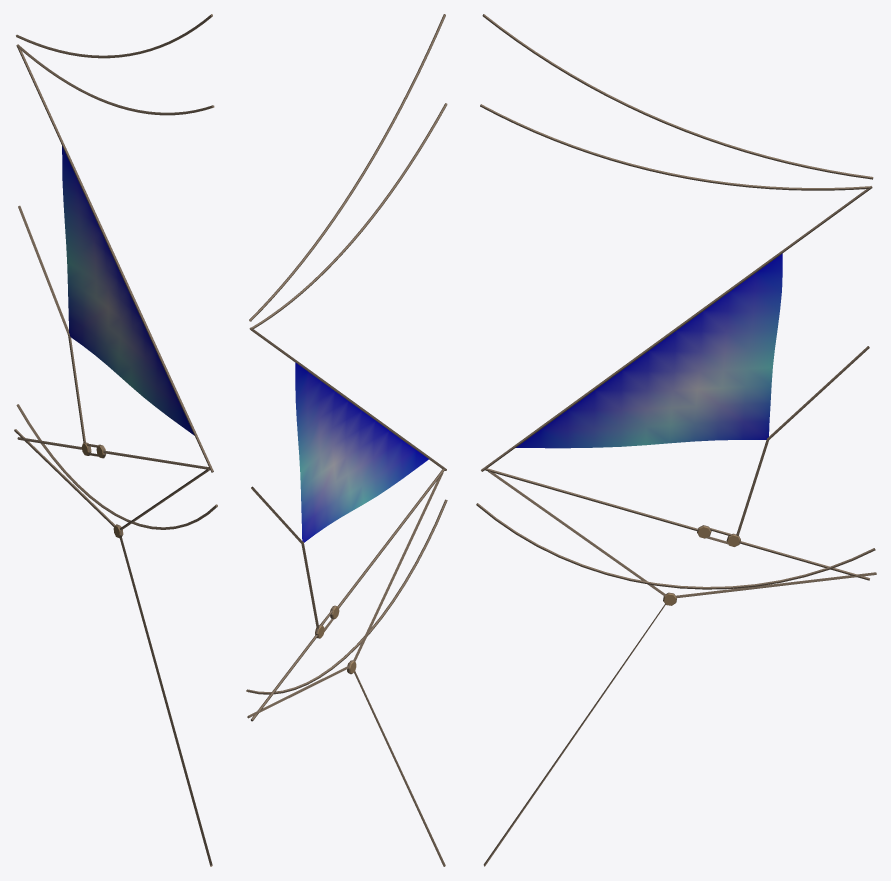
File: SM_Veh_Ship_L_01_Rigging_Middle_02.fbx
The picture shows the model from 3 angles, left to right: view 1: azimuth 30°, elevation 25°; view 2: azimuth 150°, elevation 25°; view 3: azimuth 270°, elevation 25°; orthographic projection.
Parts seen in each view (by area): view 1: SM_Veh_Ship_L_01_Rigging_Middle_02; view 2: SM_Veh_Ship_L_01_Rigging_Middle_02; view 3: SM_Veh_Ship_L_01_Rigging_Middle_02.
Boxes of the visible parts, x1,y1,x2,y2 form: SM_Veh_Ship_L_01_Rigging_Middle_02: (14, 14, 217, 866); SM_Veh_Ship_L_01_Rigging_Middle_02: (246, 14, 447, 866); SM_Veh_Ship_L_01_Rigging_Middle_02: (476, 14, 876, 866).
Size of the model in its own units: 23.15 by 3005 by 1279.
